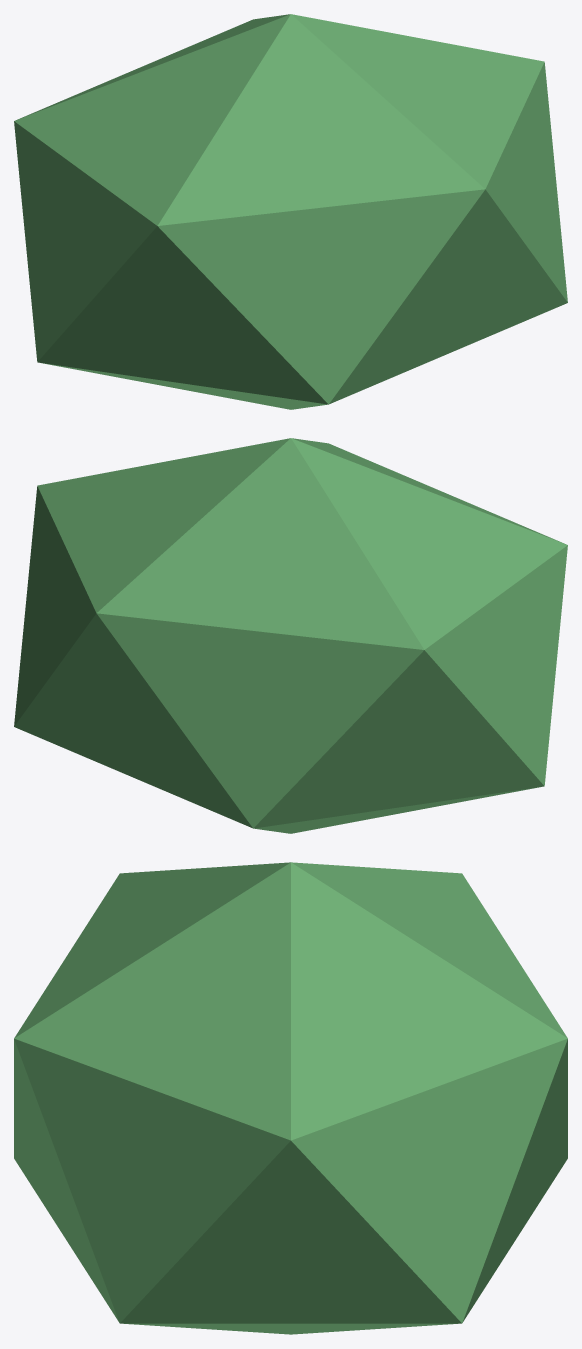
Rendered from bush.glb.
3 views of the same model, one above another, from view 1: azimuth 30°, elevation 25°; view 2: azimuth 150°, elevation 25°; view 3: azimuth 270°, elevation 25° (orthographic). The views are drawn at different scales.
Visible parts, largest first — view 1: Bush_-1.4_-2.006; view 2: Bush_-1.4_-2.006; view 3: Bush_-1.4_-2.006.
Part boxes in pixels (x1=…): Bush_-1.4_-2.006: x1=14, y1=14, x2=567, y2=409; Bush_-1.4_-2.006: x1=14, y1=438, x2=567, y2=833; Bush_-1.4_-2.006: x1=14, y1=862, x2=567, y2=1334.
Bounding box in the file's own units: 0.8264 × 0.616 × 0.655.
